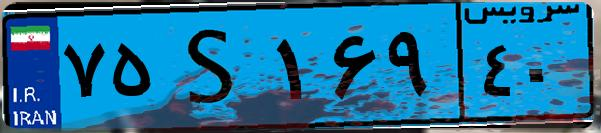0: (525, 38, 570, 115)
1: (270, 28, 330, 110)
4: (475, 38, 525, 113)
5: (110, 28, 158, 98)
6: (330, 28, 385, 110)
7: (57, 26, 110, 100)
9: (385, 28, 445, 110)
S: (158, 12, 270, 120)
